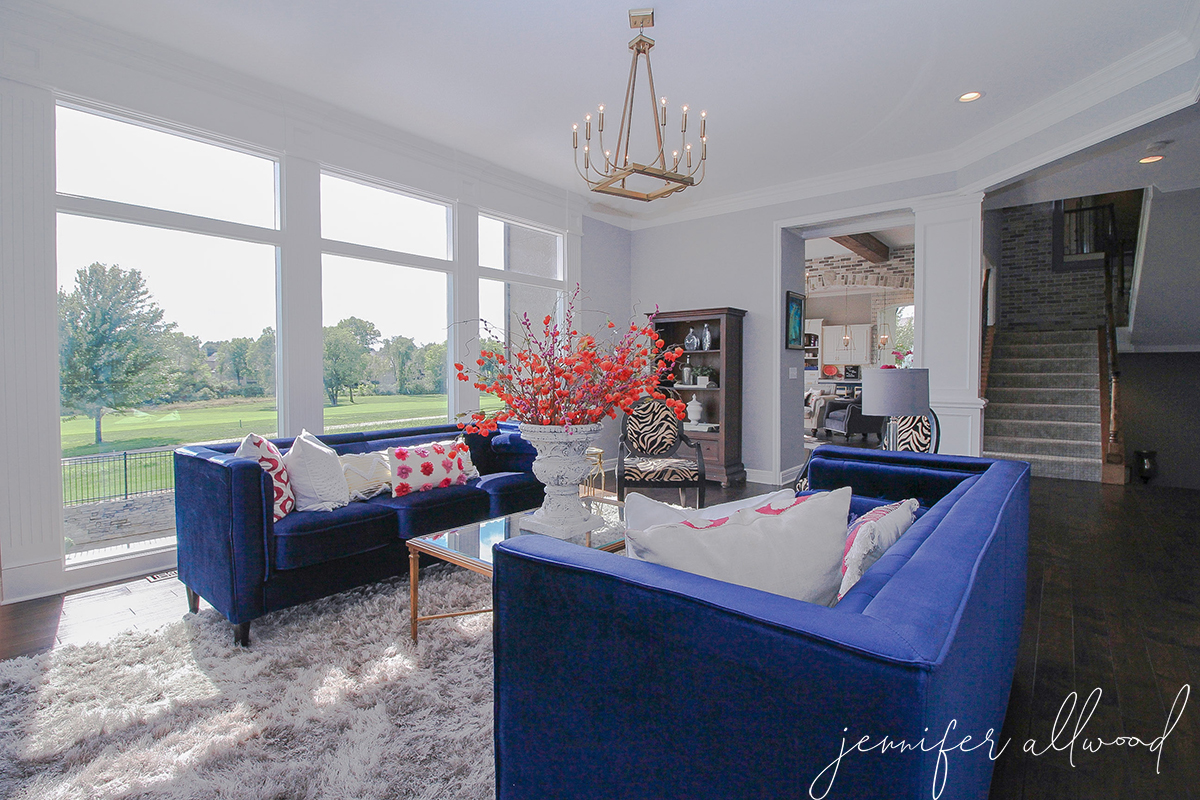biru: (497, 547, 974, 800), (171, 449, 265, 618)
putih: (626, 498, 845, 574), (518, 424, 605, 534), (290, 438, 344, 504), (343, 450, 392, 494), (687, 394, 703, 424)
